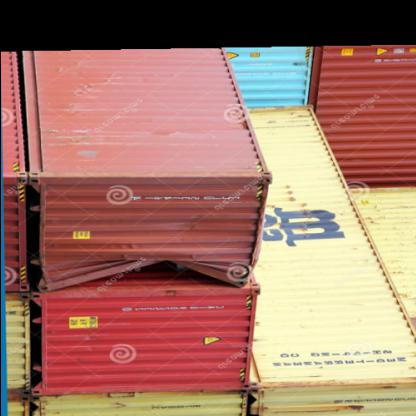Damage: (82, 245, 222, 315)
